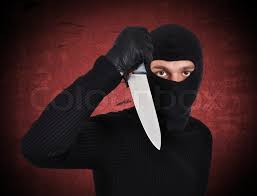weapon-unusual: (117, 39, 164, 152)
